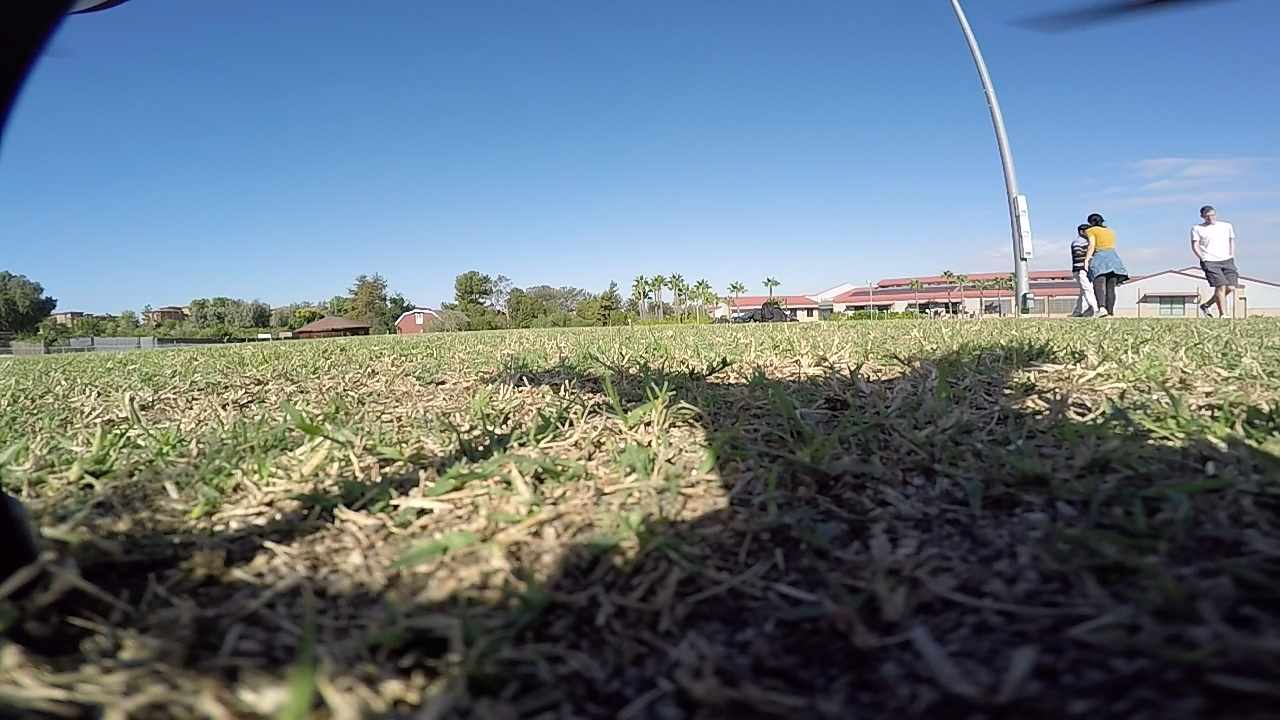person: (1188, 194, 1243, 313), (1086, 207, 1130, 309), (1071, 210, 1107, 308)
